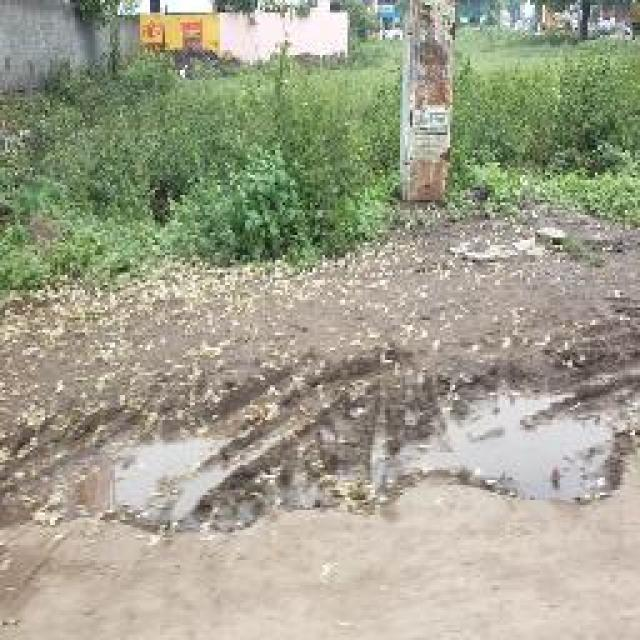stagnation: (72, 362, 640, 516)
